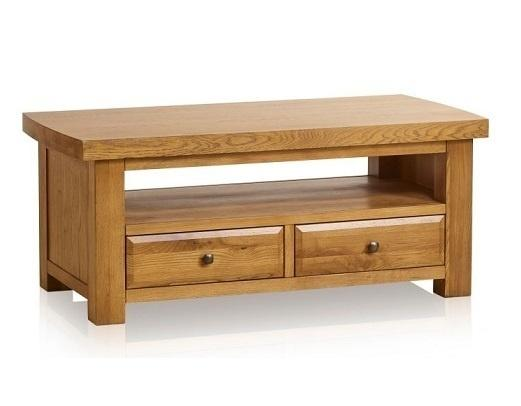cabinet_door: (129, 233, 286, 285), (296, 222, 446, 272)
handle: (366, 239, 382, 256), (200, 251, 215, 269)
